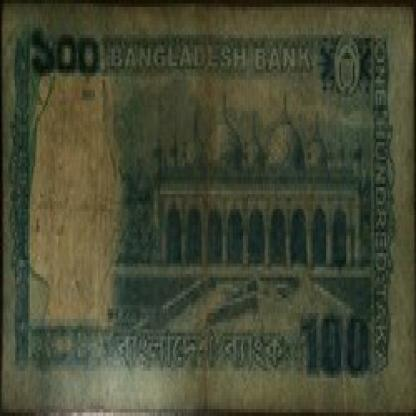one hundred taka: (300, 309, 372, 388), (30, 18, 103, 84)
